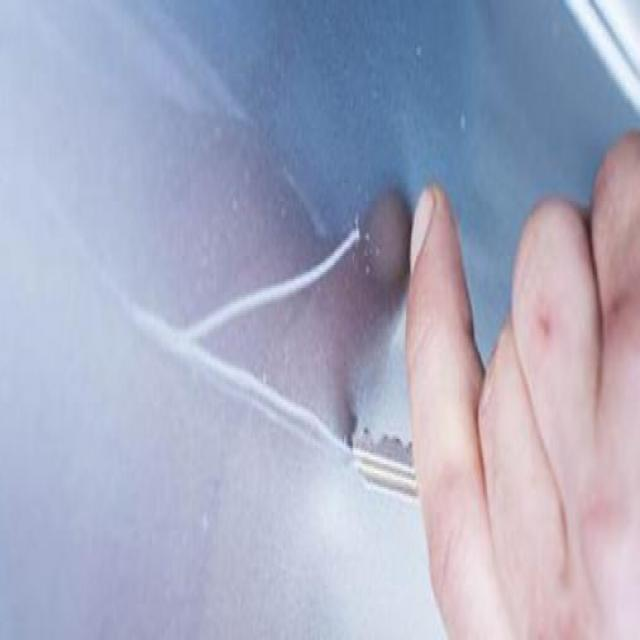scratch: (214, 212, 370, 336), (238, 352, 340, 469)
